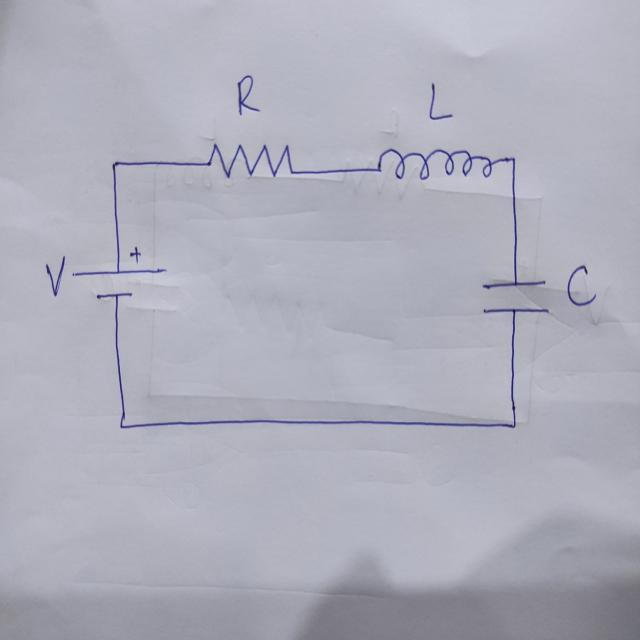capacitor: (477, 274, 552, 319)
inductor: (374, 145, 500, 180)
junction: (117, 415, 130, 434), (506, 416, 520, 432), (507, 152, 518, 168), (110, 157, 120, 170)
resistor: (202, 134, 300, 185)
source: (70, 243, 167, 302)
text: (567, 264, 595, 306), (235, 71, 261, 116), (426, 80, 454, 120), (44, 252, 66, 296)
